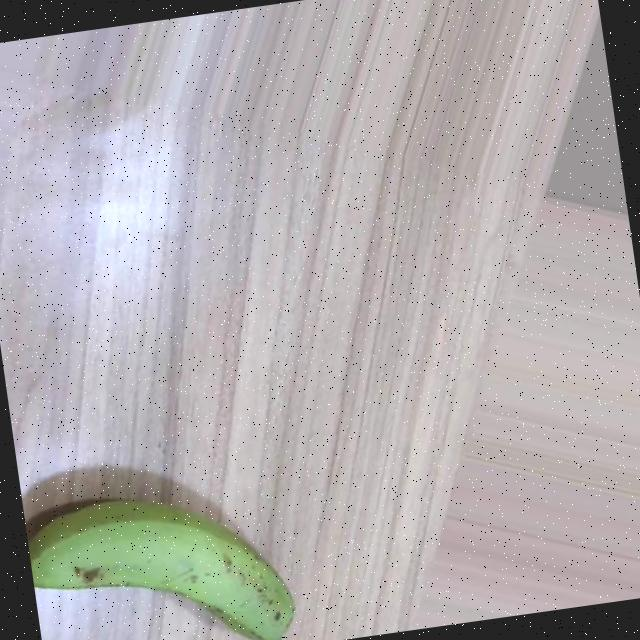Unripe: (23, 473, 301, 640)
